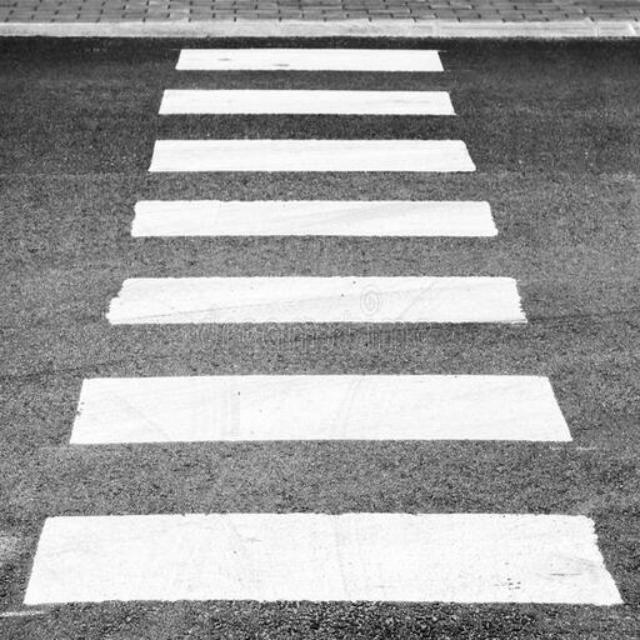sidewalk: (15, 44, 626, 609)
